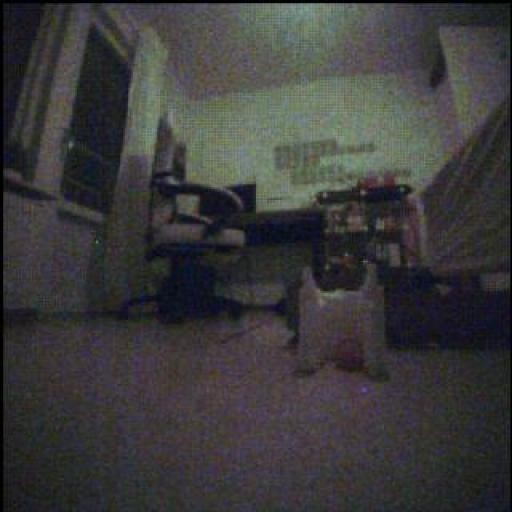basket: (335, 340, 366, 372)
